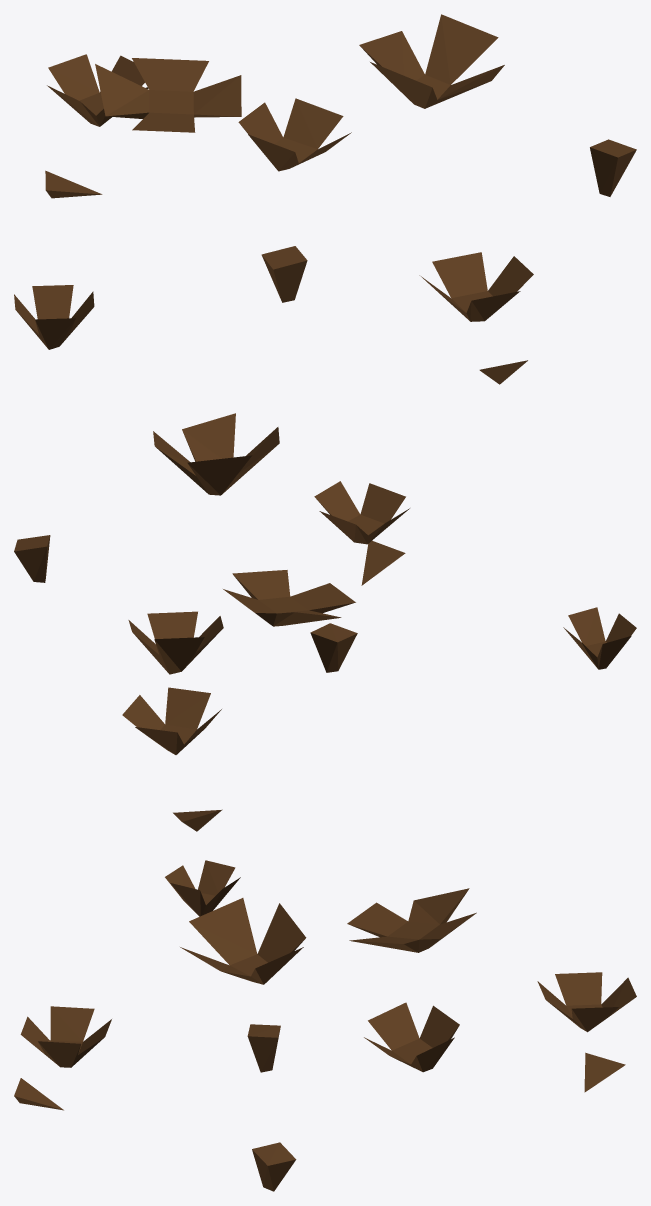
Rendered from SM_Flower_Daisy_Floating_Mature_A.fbx.
3 renders of one model, top to bottom at view 1: azimuth 30°, elevation 25°; view 2: azimuth 150°, elevation 25°; view 3: azimuth 270°, elevation 25°, orthographic. The views are drawn at different scales.
Visible parts, largest first — view 1: flower-daisy-floating-mature-a; view 2: flower-daisy-floating-mature-a; view 3: flower-daisy-floating-mature-a.
Part boxes in pixels (x1=…): flower-daisy-floating-mature-a: x1=14, y1=14, x2=636, y2=384; flower-daisy-floating-mature-a: x1=14, y1=413, x2=636, y2=831; flower-daisy-floating-mature-a: x1=14, y1=860, x2=636, y2=1191.
Bounding box in the file's own units: 0.6291 × 0.2378 × 0.5858.
